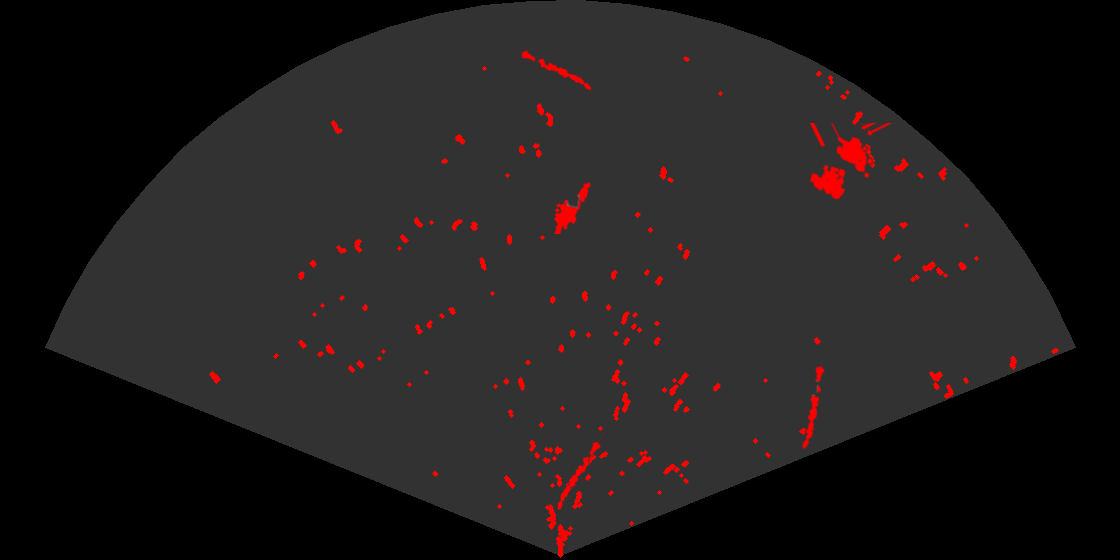cage: (808, 123, 894, 201)
chain: (556, 432, 606, 512), (517, 48, 593, 92), (801, 364, 827, 451)
frogman: (552, 180, 592, 234)
